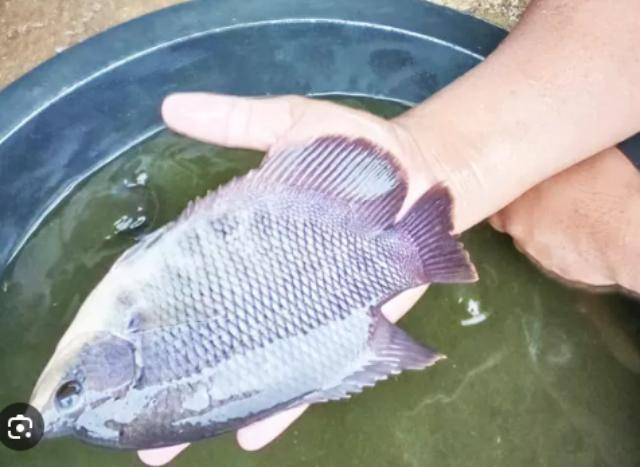Sirip Anal: (162, 130, 408, 240)
Sirip Ekor: (392, 172, 493, 318)
Sirip Punggung: (206, 290, 452, 424)
